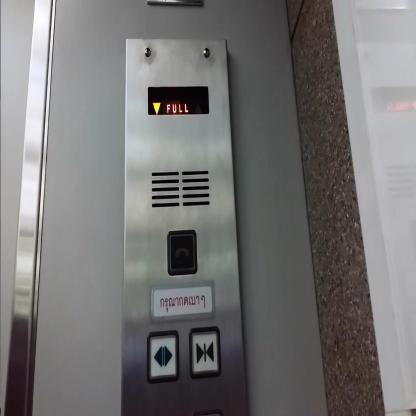call: (166, 228, 198, 278)
close: (188, 323, 223, 381)
led: (145, 82, 210, 120)
open: (147, 330, 180, 384)
